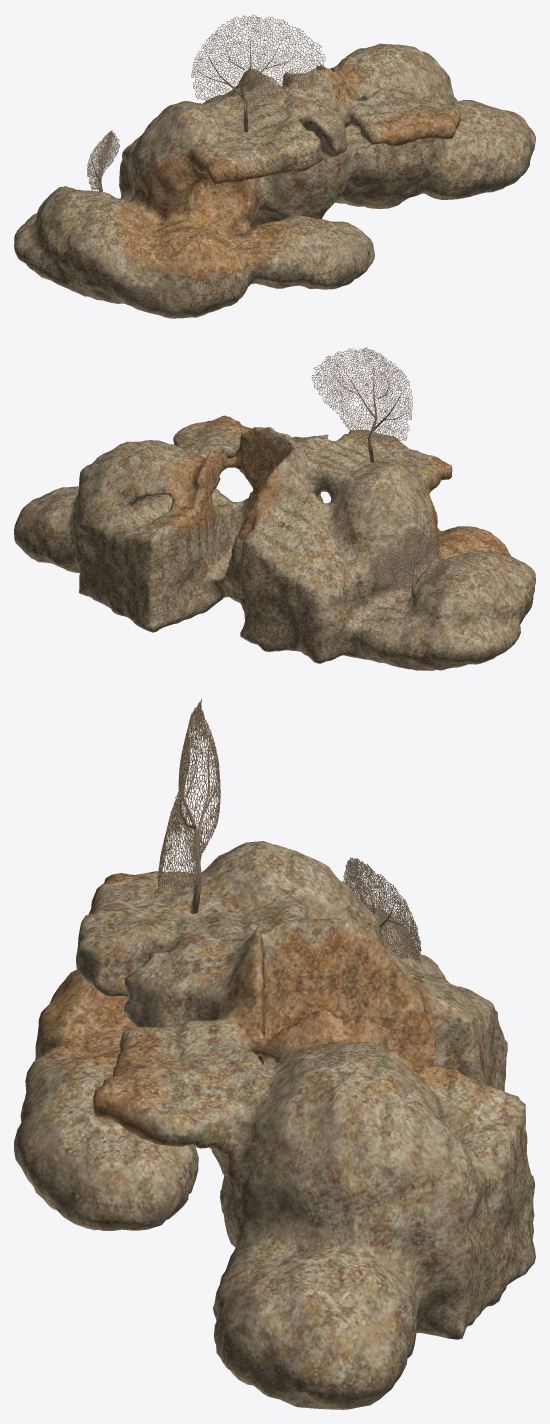
Rendered from pilot.glb.
The picture shows the model from 3 angles, top to bottom: view 1: azimuth 30°, elevation 25°; view 2: azimuth 150°, elevation 25°; view 3: azimuth 270°, elevation 25°; orthographic projection. The views are drawn at different scales.
Parts seen in each view (by area): view 1: Shoulder_closed_irregular_skeleton, Attached_reticulate_fan_form, Attached_small_fan_form; view 2: Shoulder_closed_irregular_skeleton, Attached_reticulate_fan_form, Attached_small_fan_form; view 3: Shoulder_closed_irregular_skeleton, Attached_reticulate_fan_form, Attached_small_fan_form.
Boxes of the visible parts, bbox=[...] form: Shoulder_closed_irregular_skeleton: bbox=[14, 43, 535, 318]; Attached_reticulate_fan_form: bbox=[191, 14, 325, 132]; Attached_small_fan_form: bbox=[87, 130, 119, 191]; Shoulder_closed_irregular_skeleton: bbox=[14, 415, 535, 670]; Attached_reticulate_fan_form: bbox=[311, 347, 412, 462]; Attached_small_fan_form: bbox=[369, 532, 444, 604]; Shoulder_closed_irregular_skeleton: bbox=[14, 841, 535, 1409]; Attached_reticulate_fan_form: bbox=[158, 699, 220, 913]; Attached_small_fan_form: bbox=[343, 857, 421, 960].
Size of the model in its own units: 6.01 by 3.1 by 3.06.
2 materials, 1 textured.
